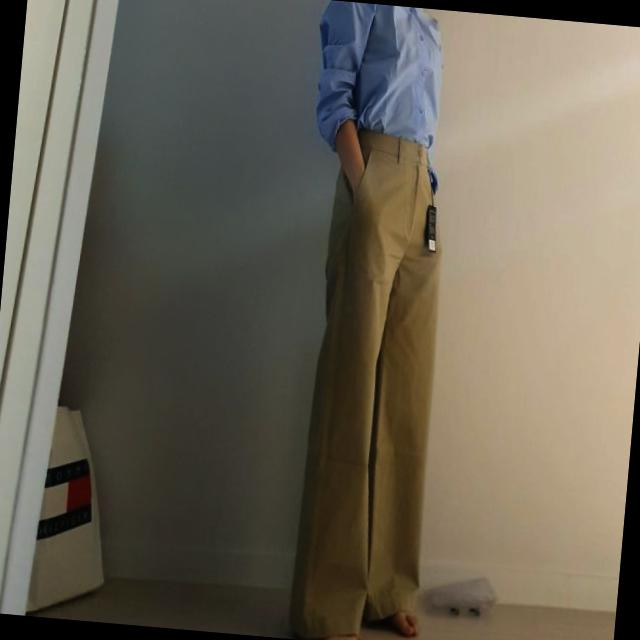cottonpants: (295, 122, 463, 640)
shirt: (315, 0, 454, 156)
